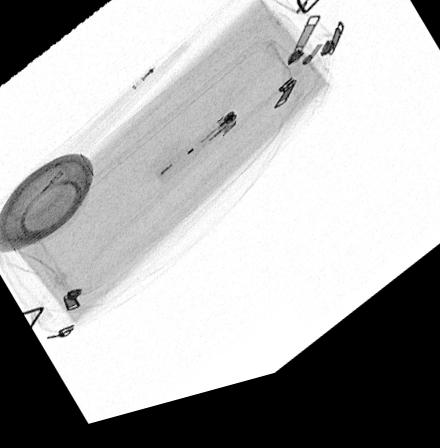Lighter: (152, 121, 237, 192)
